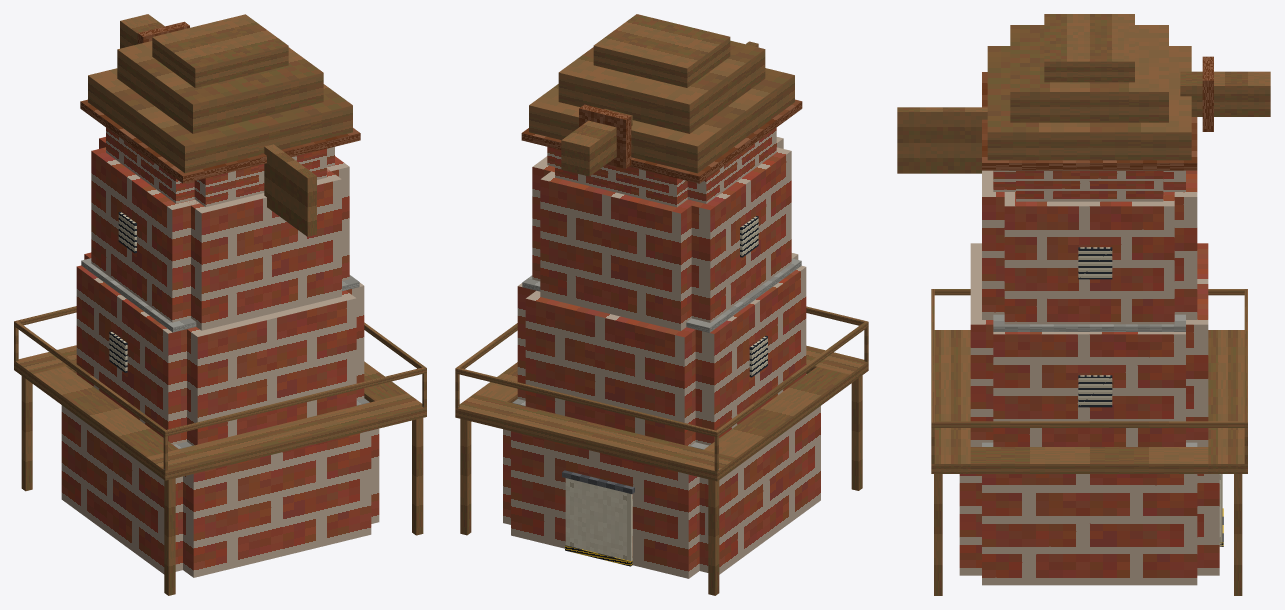
Rendered from windmill.obj.
3 views of the same model, side by side, from view 1: azimuth 30°, elevation 25°; view 2: azimuth 150°, elevation 25°; view 3: azimuth 270°, elevation 25° (orthographic). The views are drawn at different scales.
Visible parts, largest first — view 1: tower0b, tower1b, tower2b, tower2a, tower1a, tower0a, cap1, cap2, stage_b, cap3, stage_l, tail_pole (+14 smaller); view 2: tower2b, tower1b, tower0b, tower2a, tower1a, tower0a, cap2, cap1, stage_f, cap3, stage_l, cabinet (+16 smaller); view 3: tower0a, tower2a, tower1a, cap1, cap2, tower1b, stage_r, tower2b, cap3, tail_pole, stage_f, stage_b (+15 smaller).
Part boxes in pixels (x1,y1,x2,y2): tower0b: [76, 373, 371, 577]; tower1b: [84, 252, 356, 445]; tower2b: [99, 137, 341, 330]; tower2a: [91, 147, 349, 322]; tower1a: [76, 265, 364, 444]; tower0a: [61, 405, 379, 574]; cap1: [88, 68, 352, 173]; cap2: [117, 41, 323, 133]; stage_b: [146, 393, 426, 480]; cap3: [152, 14, 288, 87]; stage_l: [33, 366, 178, 466]; tail_pole: [264, 144, 316, 236]; tower2b: [540, 137, 783, 330]; tower1b: [525, 253, 798, 446]; tower0b: [511, 374, 806, 578]; tower2a: [532, 147, 791, 322]; tower1a: [517, 265, 806, 445]; tower0a: [503, 406, 820, 574]; cap2: [558, 40, 765, 133]; cap1: [529, 68, 794, 173]; stage_f: [455, 394, 736, 481]; cap3: [593, 14, 730, 87]; stage_l: [704, 366, 849, 467]; cabinet: [565, 478, 632, 560]; tower0a: [982, 474, 1197, 585]; tower2a: [1004, 192, 1174, 324]; tower1a: [993, 332, 1185, 446]; cap1: [987, 46, 1191, 160]; cap2: [1010, 25, 1168, 122]; tower1b: [970, 243, 1208, 446]; stage_r: [970, 447, 1208, 473]; tower2b: [982, 170, 1197, 319]; cap3: [1044, 14, 1134, 82]; tail_pole: [897, 107, 987, 173]; stage_f: [1208, 330, 1247, 473]; stage_b: [931, 330, 970, 473].
Size of the model in its own units: 3.5 by 6 by 4.12.
